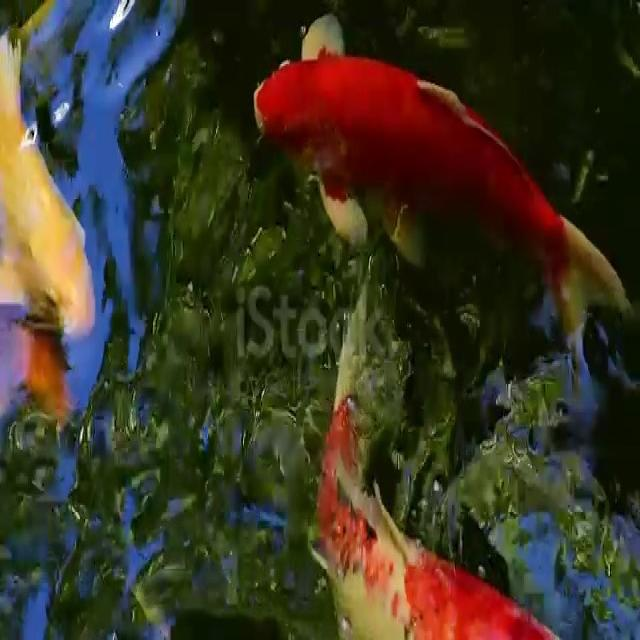fish: (254, 32, 618, 390), (0, 40, 118, 342)
